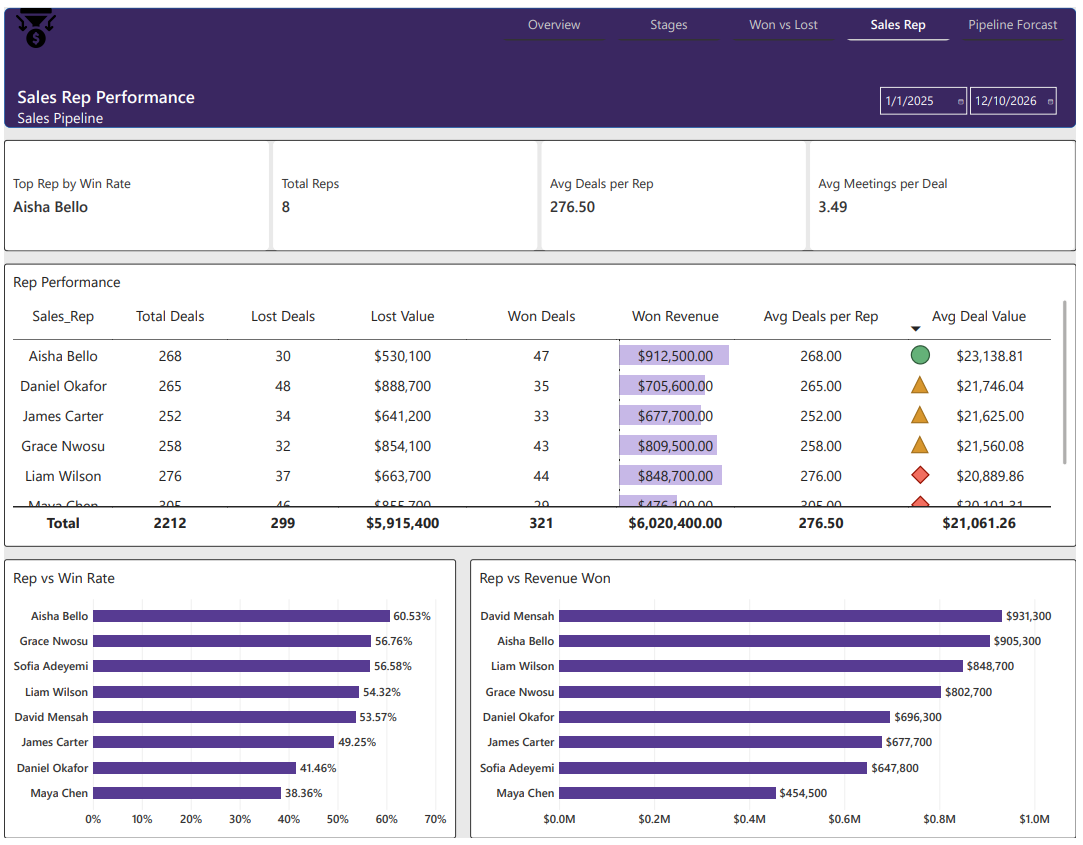

This screenshot's page, from the dashboard's own definition file:
{"tool":"powerbi","page":{"name":"Sales Rep","canvas":[2000,1550],"ordinal":3},"visuals":[{"type":"shape","box":[0,0,2000.5,223.6],"z":0},{"type":"image","box":[0,2.5,118,71.3],"z":1000},{"type":"textbox","box":[24.6,142.5,464.5,81.1],"z":2000},{"type":"pageNavigator","box":[924.1,0,1064,61.4],"z":3000},{"type":"cardVisual","fields":{"Data":["Measure.Top Rep by Win Rate","Measure.Total Reps","Measure.Avg Deals per Rep","Measure.Avg Meetings per Deal"]},"box":[0,247.4,2000.5,206.4],"z":4000},{"type":"tableEx","title":"Rep Performance","fields":{"Values":["Sales_Pipeline.Sales_Rep","Measure.Total Deals","Measure.Lost Deals","Measure.Lost Value","Measure.Won Deals","Measure.Won Revenue","Measure.Avg Deals per Rep","Measure.Avg Deal Value"]},"box":[0,477.6,2000.5,528.4],"z":6000},{"type":"slicer","fields":{"Values":["Calendar Table.Date"]},"box":[1627,142.5,341.6,61.4],"z":7000},{"type":"barChart","title":"Rep vs Win Rate","fields":{"Category":["Sales_Pipeline.Sales_Rep"],"Y":["Measure.Win Rate"]},"box":[0,1029.7,843,521],"z":9000},{"type":"barChart","title":"Rep vs Revenue Won","fields":{"Category":["Sales_Pipeline.Sales_Rep"],"Y":["Measure.Won Revenue"]},"box":[870,1029.7,1130.5,521],"z":9001}]}

Visuals, with their boxes in screenshot pixels (x1, y1, x2, y2), scaled from the page's 2000x1550 canvas onto the 1083x845 screenshot:
shape: (x1=0, y1=0, x2=1082, y2=122)
image: (x1=0, y1=1, x2=64, y2=40)
textbox: (x1=13, y1=78, x2=265, y2=122)
pageNavigator: (x1=500, y1=0, x2=1077, y2=33)
cardVisual - Measure.Top Rep by Win Rate x Measure.Total Reps: (x1=0, y1=135, x2=1082, y2=247)
"Rep Performance" tableEx: (x1=0, y1=260, x2=1082, y2=548)
slicer - Calendar Table.Date: (x1=881, y1=78, x2=1066, y2=111)
"Rep vs Win Rate" barChart: (x1=0, y1=561, x2=456, y2=844)
"Rep vs Revenue Won" barChart: (x1=471, y1=561, x2=1082, y2=844)
